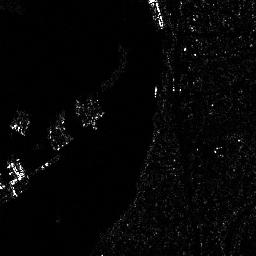ship: (148, 1, 167, 31)
